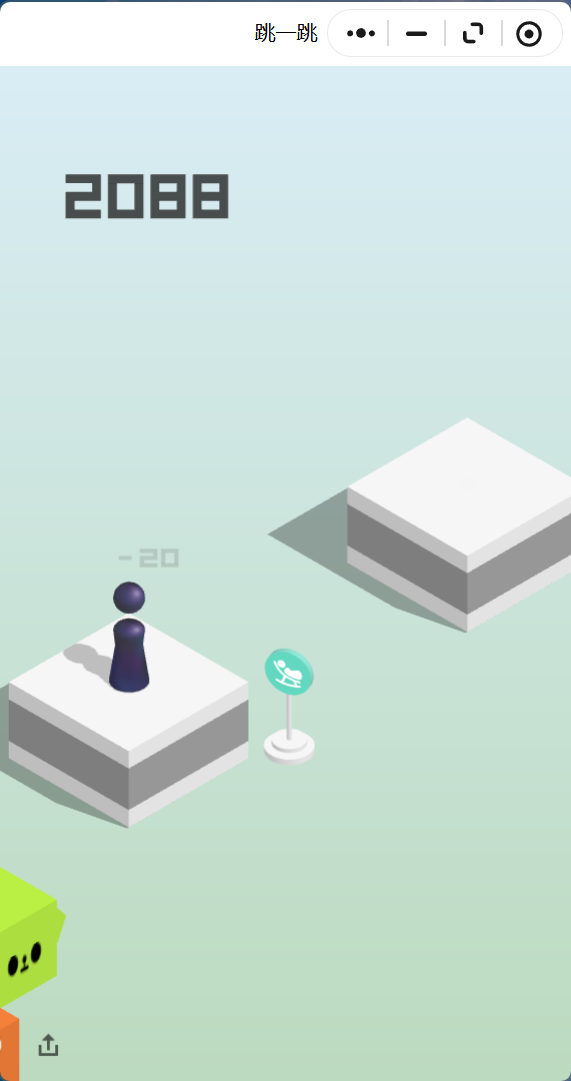piece: (113, 582, 144, 688)
target: (349, 417, 571, 554)
